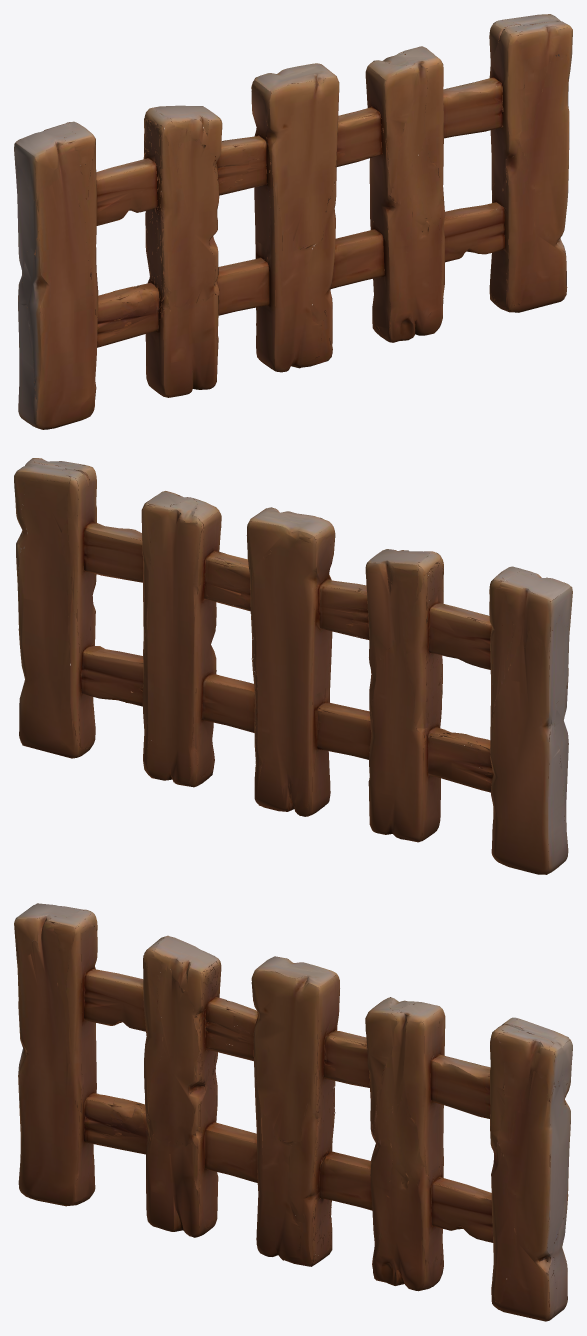
Rendered from pagar.glb.
The picture shows the model from 3 angles, top to bottom: view 1: azimuth 30°, elevation 25°; view 2: azimuth 150°, elevation 25°; view 3: azimuth 330°, elevation 25°; orthographic projection.
Visible parts, largest first — view 1: node_0; view 2: node_0; view 3: node_0.
Boxes of the visible parts, x1,y1,x2,y2 form: node_0: (14, 14, 572, 429); node_0: (14, 458, 572, 874); node_0: (14, 903, 572, 1321).
Size of the model in its own units: 1.09 by 0.5543 by 0.0794.
Materials: 1 (1 with a texture image).
